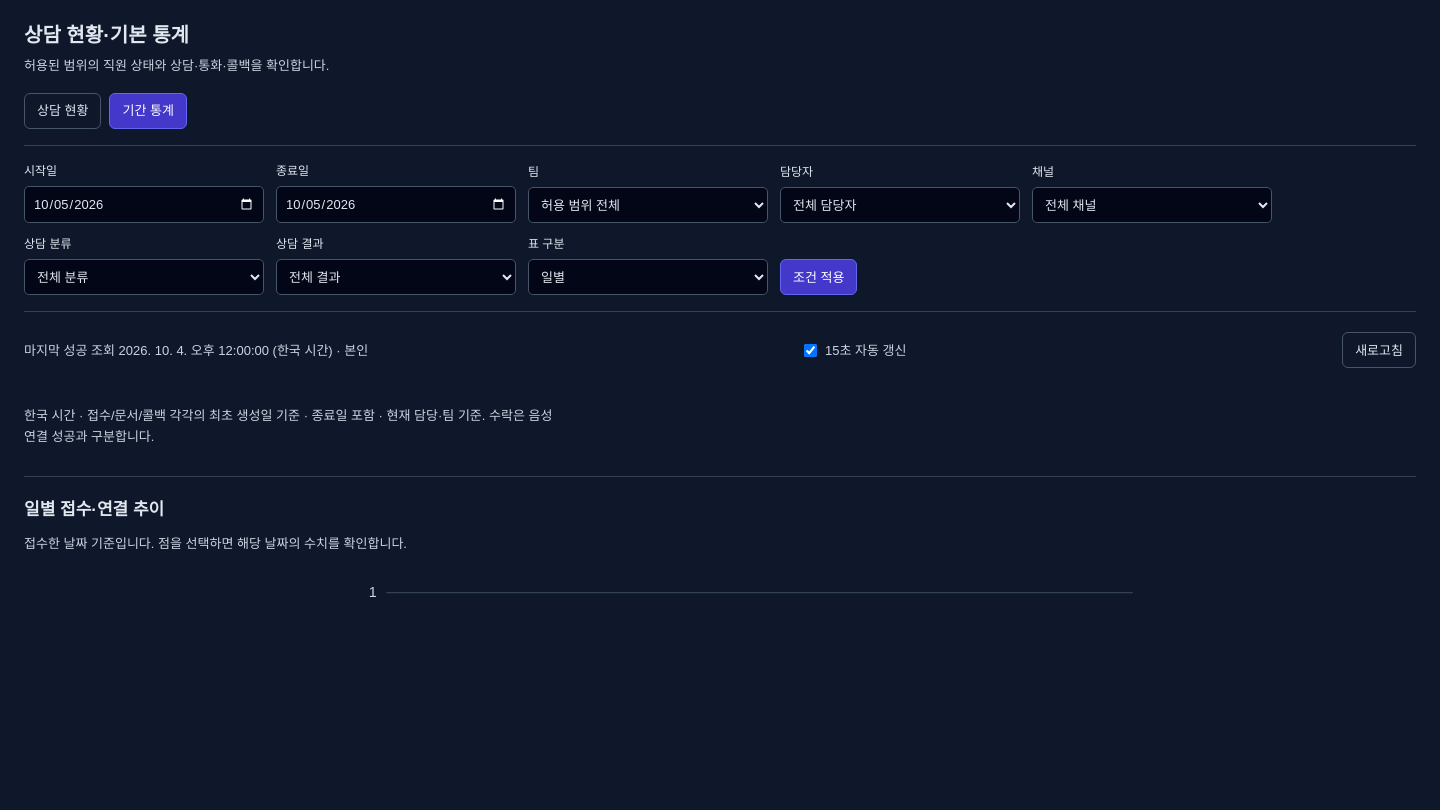
Test: 권한별 상담 통계 › 403에는 이전 집계를 지우고 권한 변화 뒤 늦은 응답을 버린다
Click the button "새로고침".
click(1379, 350)  # box left=1342, top=332, right=1416, bottom=368
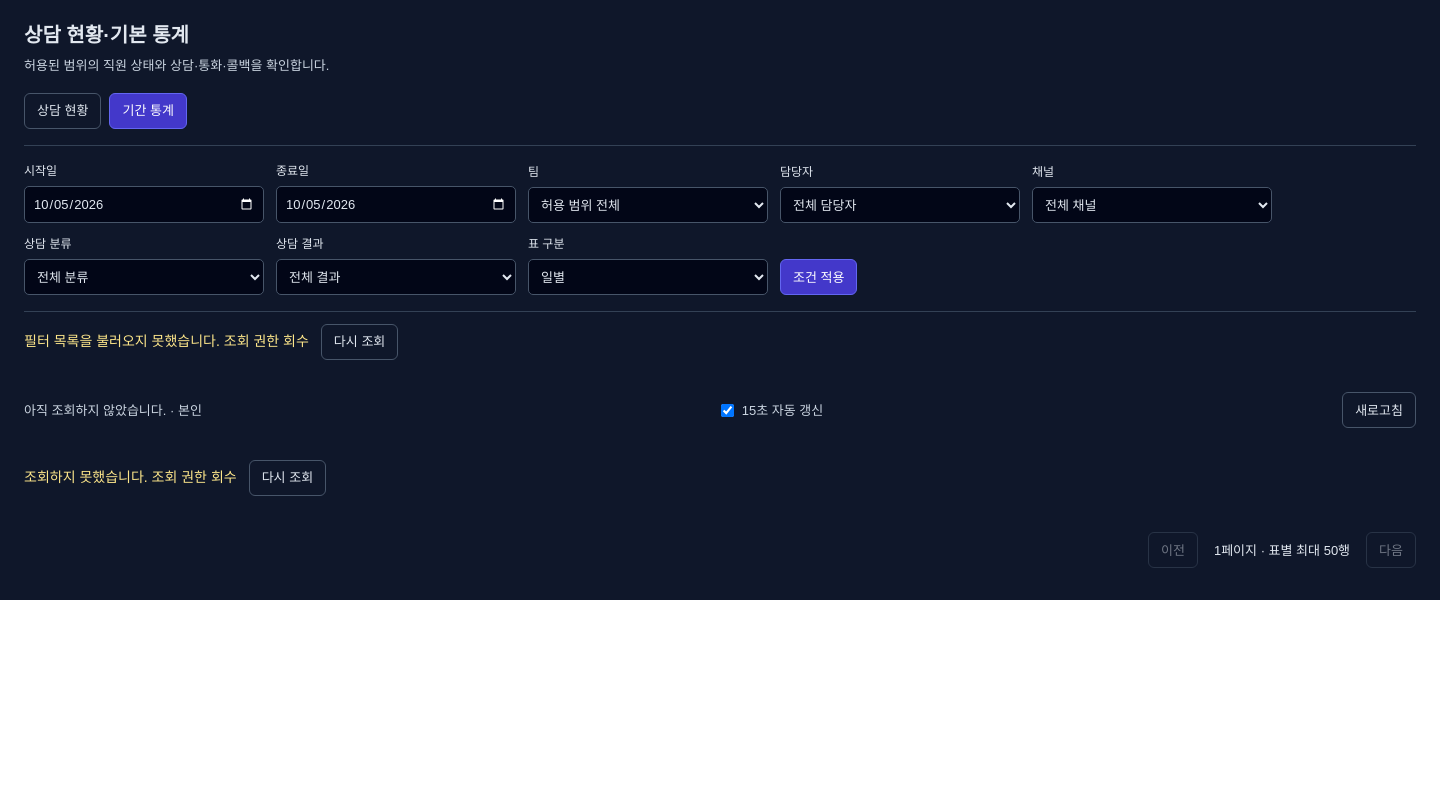
expect the text "필터 목록을 불러오지 못했습니다. 조회 권한 회수 다시 조회" is shown: met, box left=24, top=324, right=398, bottom=360
